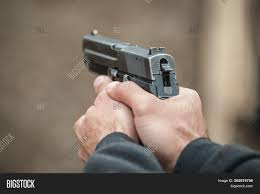gun: (81, 28, 187, 126)
